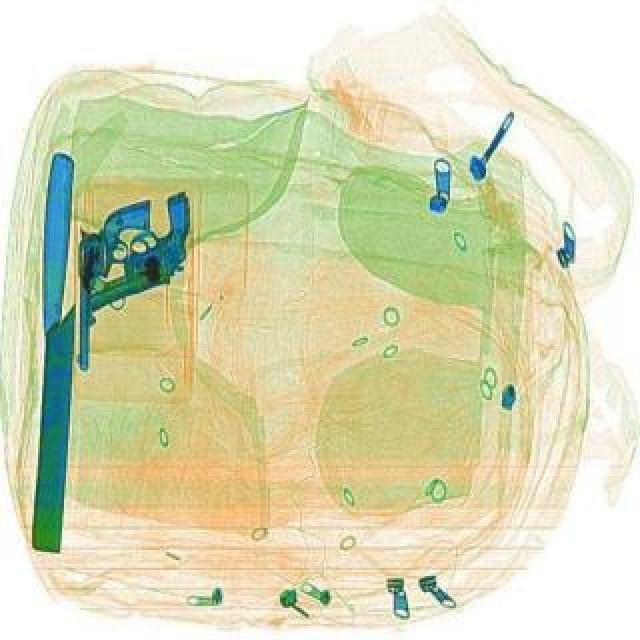gun: (56, 188, 216, 310), (74, 196, 150, 368)
knife: (26, 150, 82, 554)
